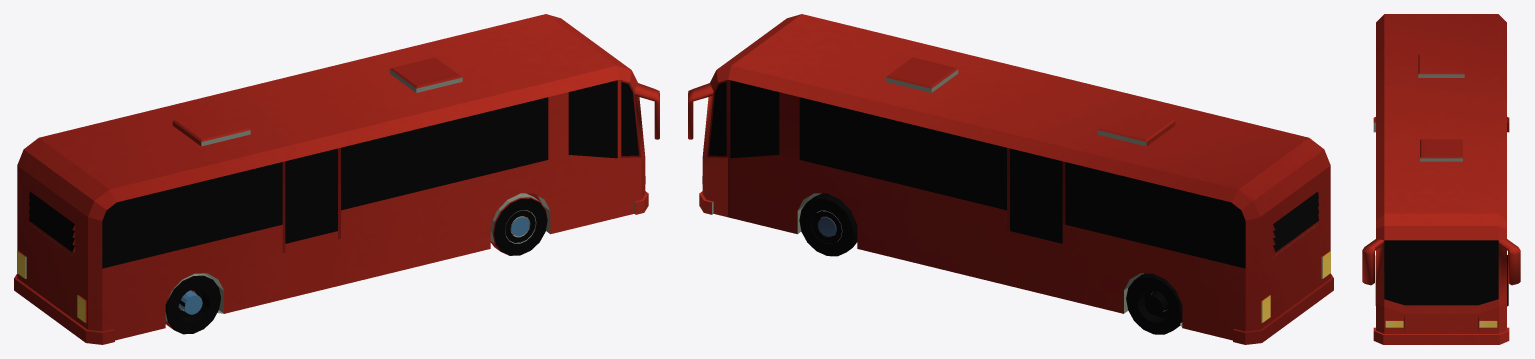
The model's file is metro1.fbx.
3 renders of one model, left to right at view 1: azimuth 30°, elevation 25°; view 2: azimuth 150°, elevation 25°; view 3: azimuth 270°, elevation 25°, orthographic. The views are drawn at different scales.
Parts seen in each view (by area): view 1: Bus; view 2: Bus; view 3: Bus.
Part boxes in pixels (x1,y1,x2,y2): Bus: (14, 14, 659, 344); Bus: (688, 14, 1333, 344); Bus: (1362, 14, 1520, 344).
Size of the model in its own units: 806 by 227 by 242.
1 material, 1 textured.
